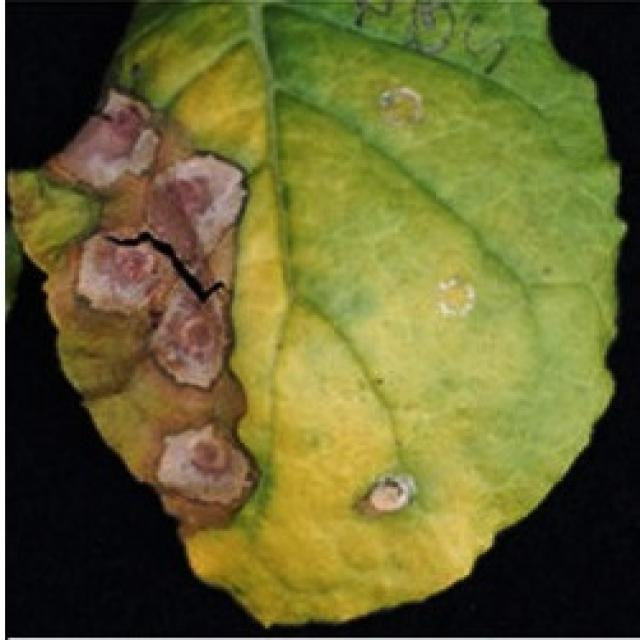Fusarium Wilt: (22, 45, 285, 548)
